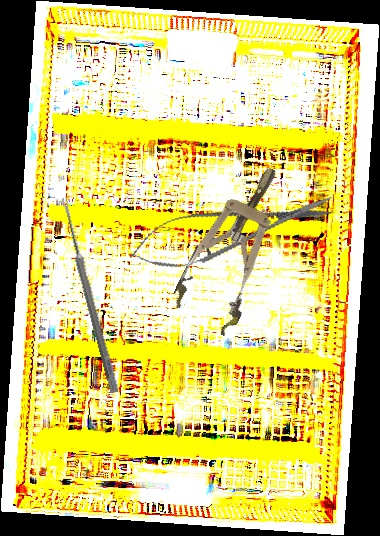Micro Scissor: (122, 178, 342, 282)
Speculum: (166, 154, 305, 339)
Surgical Spoon: (58, 196, 121, 394)
